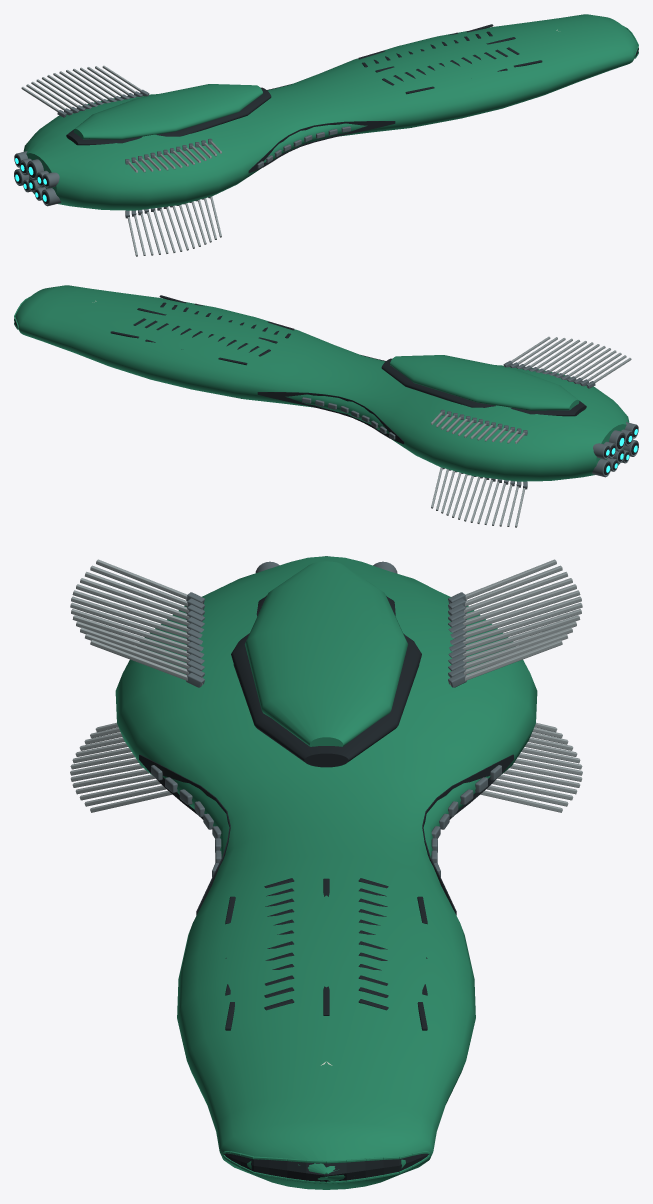
File: shu-ew.glb
3 views of the same model, one above another, from view 1: azimuth 30°, elevation 25°; view 2: azimuth 150°, elevation 25°; view 3: azimuth 270°, elevation 25° (orthographic). The views are drawn at different scales.
Parts seen in each view (by area): view 1: Deep sculpted ceramic manta, Raised emerald sensor blister, Flush dark sensor skirt, Conformal side equipment panel; view 2: Deep sculpted ceramic manta, Raised emerald sensor blister, Flush dark sensor skirt, Conformal side equipment panel.001; view 3: Deep sculpted ceramic manta, Raised emerald sensor blister, Flush dark sensor skirt, Low-profile frontal interference slit, Conformal side equipment panel, Conformal side equipment panel.001.
Boxes of the visible parts, x1,y1,x2,y2 form: Deep sculpted ceramic manta: (23, 14, 638, 210); Raised emerald sensor blister: (73, 84, 262, 139); Flush dark sensor skirt: (66, 87, 271, 145); Conformal side equipment panel: (248, 121, 395, 173); Deep sculpted ceramic manta: (14, 285, 629, 481); Raised emerald sensor blister: (390, 355, 579, 410); Flush dark sensor skirt: (381, 358, 586, 416); Conformal side equipment panel.001: (257, 392, 404, 444); Deep sculpted ceramic manta: (115, 556, 537, 1189); Raised emerald sensor blister: (245, 561, 407, 746); Flush dark sensor skirt: (231, 595, 421, 767); Low-profile frontal interference slit: (224, 1153, 428, 1182); Conformal side equipment panel: (139, 754, 230, 915); Conformal side equipment panel.001: (422, 754, 513, 915).
Bounding box in the file's own units: 400 × 57.33 × 148.
